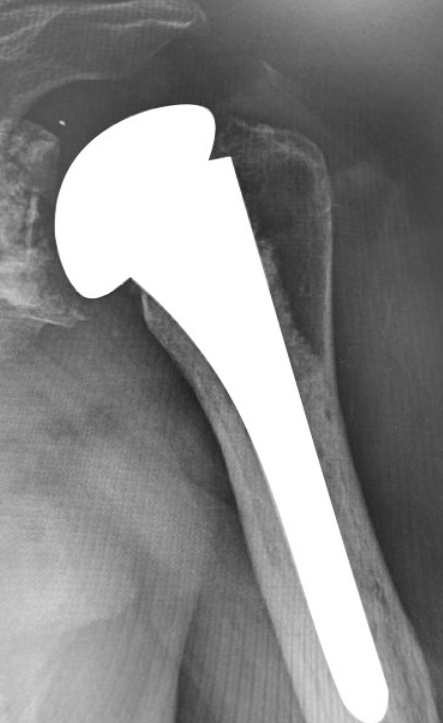Shoulder - Anotomyhead - Stryker: (43, 89, 250, 329)
Shoulder - Anotomytail - Stryker: (113, 148, 324, 453)
